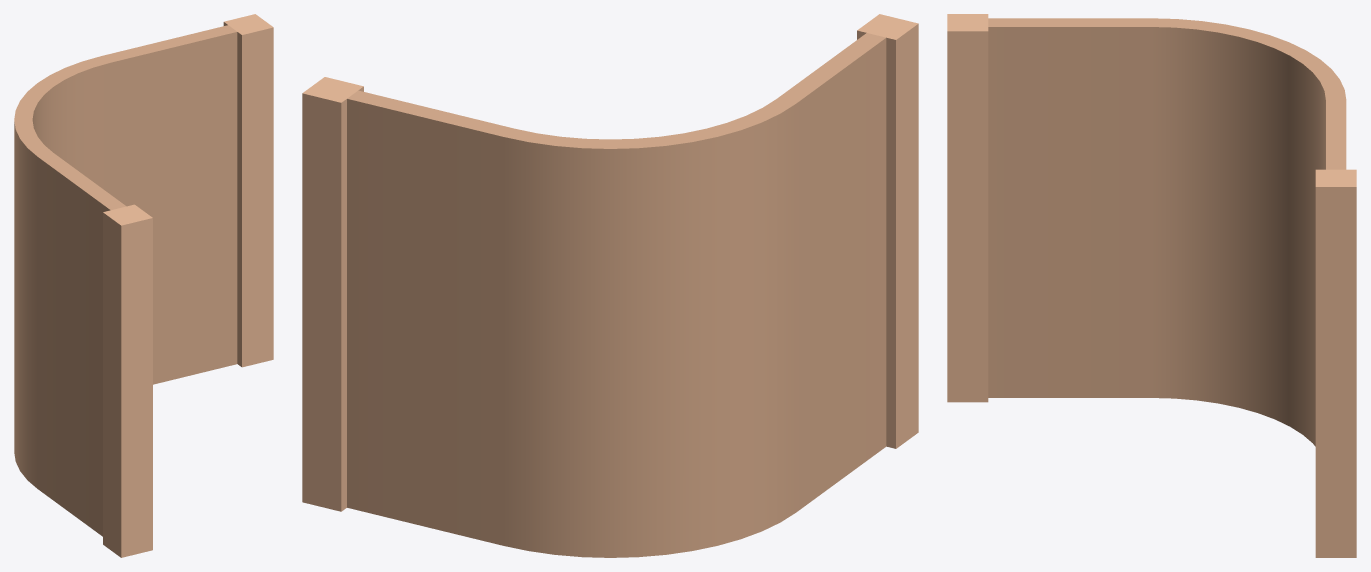
File: wallWoodRounded.glb
The picture shows the model from 3 angles, left to right: view 1: azimuth 30°, elevation 25°; view 2: azimuth 150°, elevation 25°; view 3: azimuth 270°, elevation 25°; orthographic projection. The views are drawn at different scales.
Visible parts, largest first — view 1: wallWoodRounded; view 2: wallWoodRounded; view 3: wallWoodRounded.
Part boxes in pixels (box(x1,y1,x2,y2)): wallWoodRounded: box(14, 14, 273, 557); wallWoodRounded: box(302, 14, 918, 557); wallWoodRounded: box(947, 14, 1356, 557).
Size of the model in its own units: 1 by 1 by 1.
